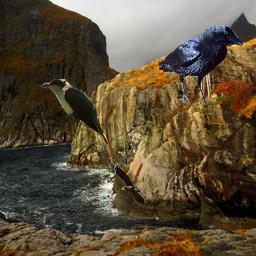Crow: (159, 25, 243, 106), (114, 164, 146, 205)
Cuckoo: (40, 79, 108, 147)
